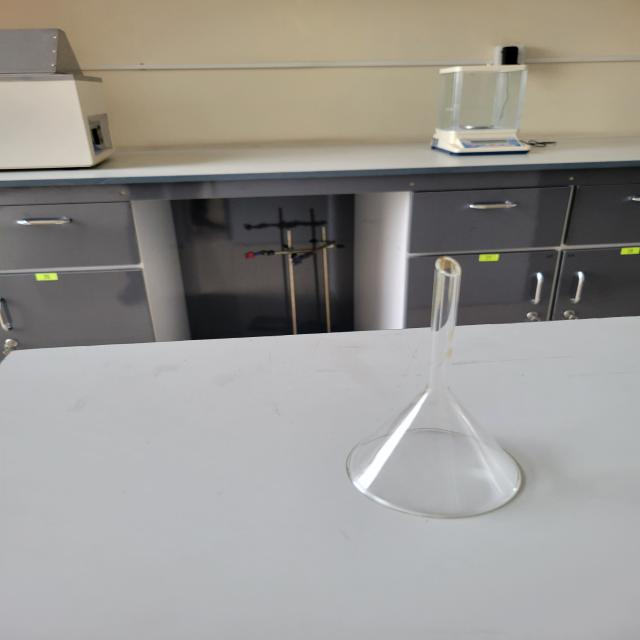Funnel: (326, 232, 543, 536)
